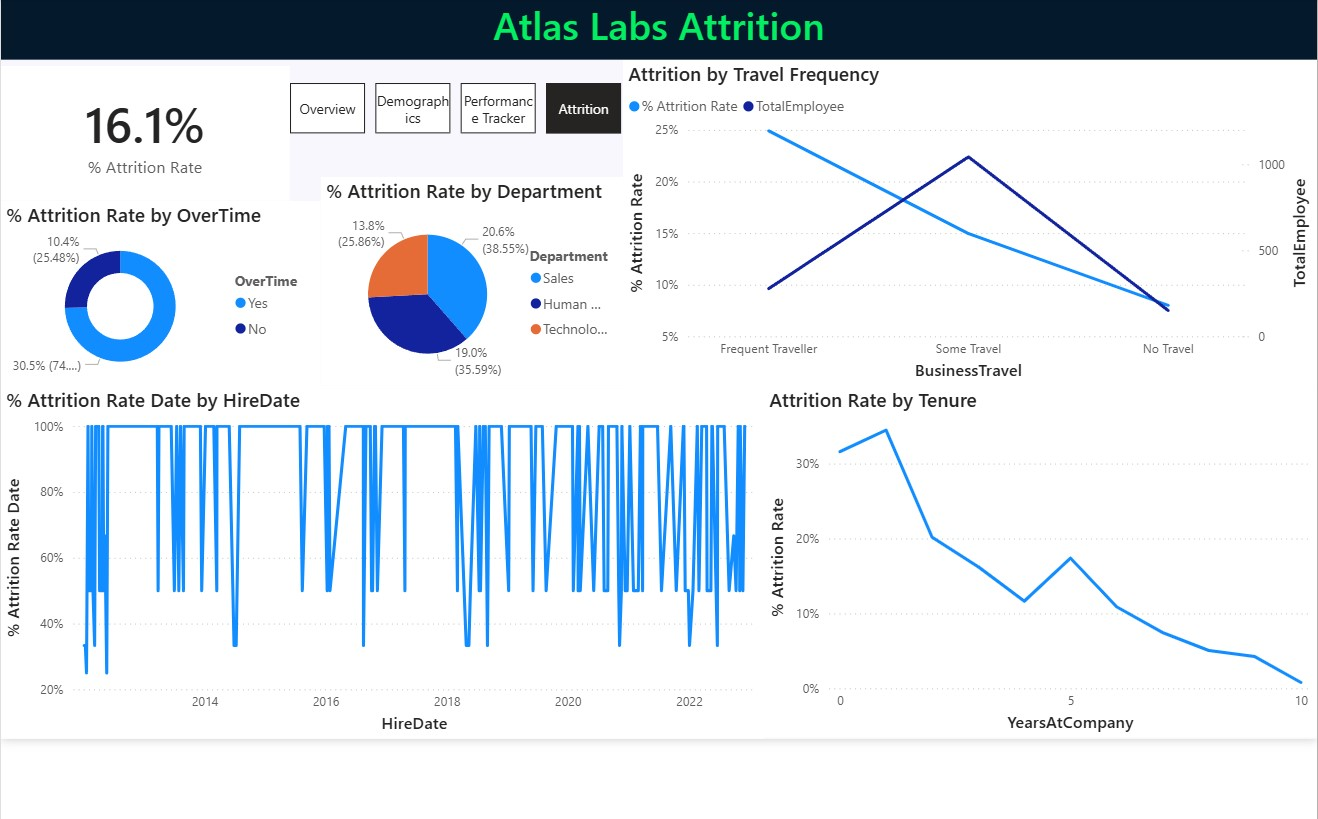

What the dashboard file says about the page in this screenshot:
{"tool":"powerbi","page":{"name":"Attrition","canvas":[1280,720],"ordinal":3},"visuals":[{"type":"card","fields":{"Values":["_Measures.% Attrition Rate"]},"box":[0,65.2,281.1,131.3],"z":0},{"type":"pieChart","fields":{"Y":["_Measures.% Attrition Rate"],"Category":["DimEmployee.Department"]},"box":[311.2,173.1,293.7,203.3],"z":1000},{"type":"lineChart","fields":{"Y":["_Measures.% Attrition Rate Date"],"Category":["DimEmployee.HireDate"]},"box":[0,376.4,742.1,343.3],"z":2000},{"type":"lineChart","title":"Attrition by Travel Frequency","fields":{"Category":["DimEmployee.BusinessTravel"],"Y":["_Measures.% Attrition Rate"],"Y2":["_Measures.TotalEmployee"]},"box":[605,59.3,675,317.1],"z":3000},{"type":"donutChart","fields":{"Y":["_Measures.% Attrition Rate"],"Category":["DimEmployee.OverTime"]},"box":[0,196.5,311.2,179.9],"z":4000},{"type":"lineChart","title":"Attrition Rate by Tenure","fields":{"Y":["_Measures.% Attrition Rate"],"Category":["DimEmployee.YearsAtCompany"]},"box":[742.1,376.4,537.9,342.4],"z":5000},{"type":"shape","title":"Atlas Labs Attrition","box":[0,0,1280,59.3],"z":6000},{"type":"pageNavigator","box":[281.1,81.7,323.9,49.6],"z":6001}]}

Visuals, with their boxes on the page's 1280x720 design canvas (x1, y1, x2, y2). These are canvas units, not pixel positions in the 1318x819 screenshot, which may show the page scaled, cropped or inside an application window:
card - _Measures.% Attrition Rate: 0/65/281/196
pieChart - _Measures.% Attrition Rate x DimEmployee.Department: 311/173/605/376
lineChart - _Measures.% Attrition Rate Date x DimEmployee.HireDate: 0/376/742/720
"Attrition by Travel Frequency" lineChart: 605/59/1280/376
donutChart - _Measures.% Attrition Rate x DimEmployee.OverTime: 0/196/311/376
"Attrition Rate by Tenure" lineChart: 742/376/1280/719
"Atlas Labs Attrition" shape: 0/0/1280/59
pageNavigator: 281/82/605/131
